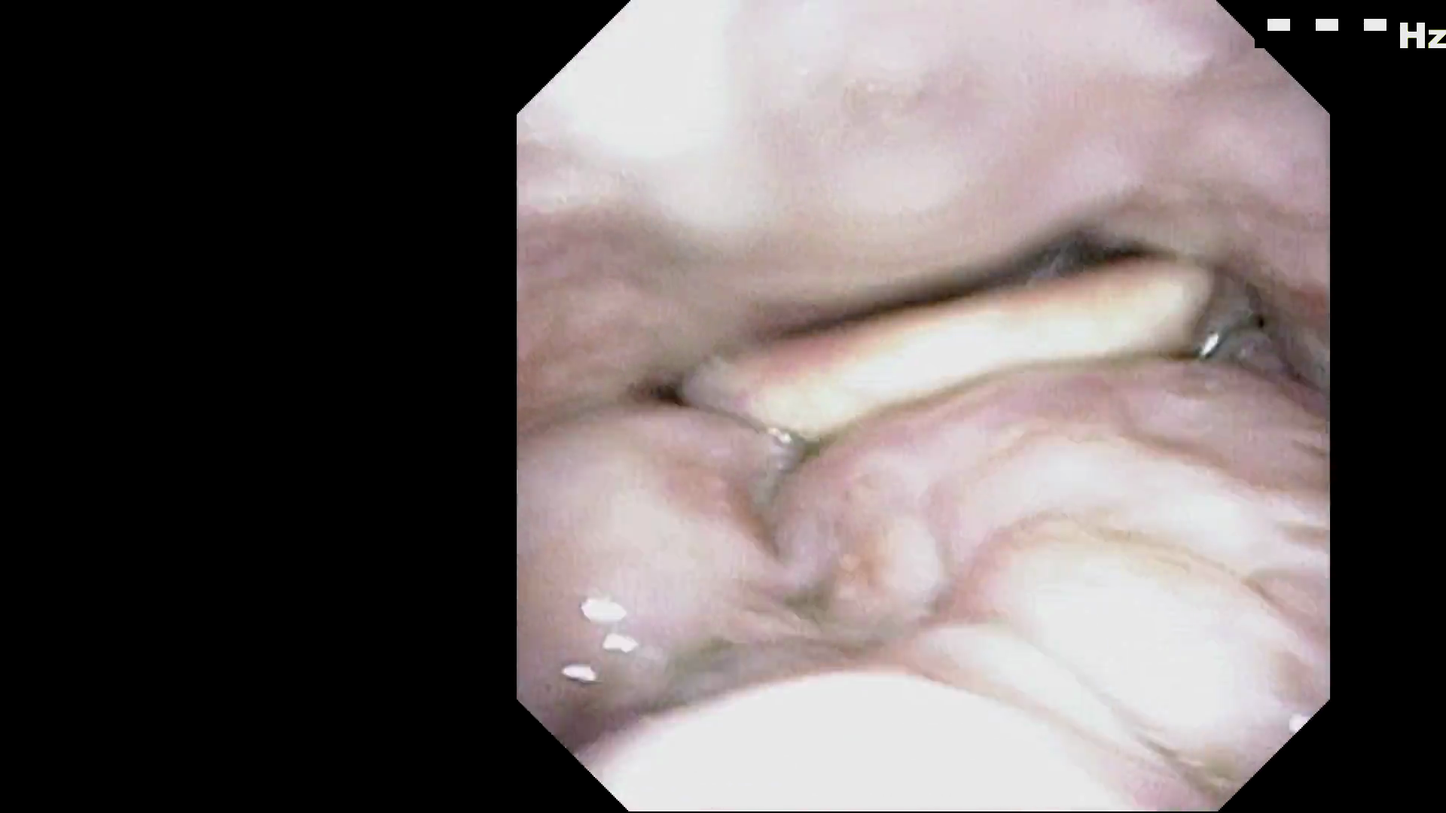epiglottis: (709, 374, 1292, 539)
